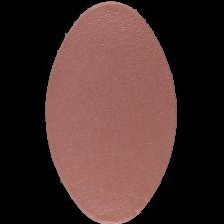70786-0004: (0, 0, 224, 224)
